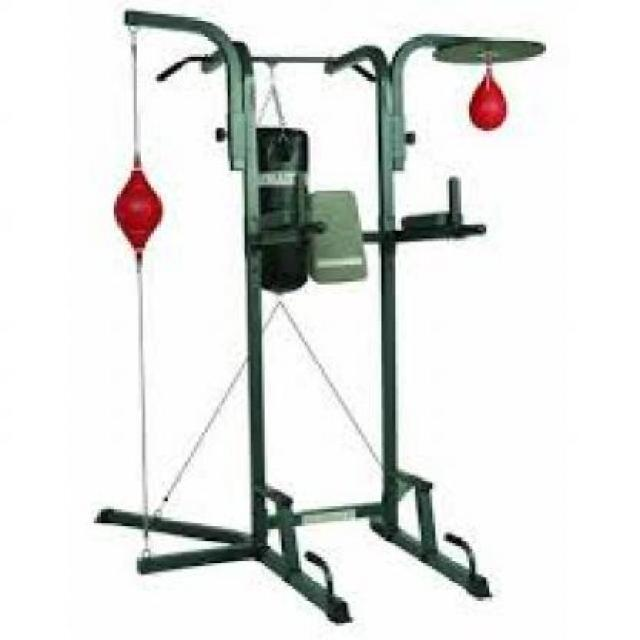chinning dipping: (94, 8, 546, 626)
